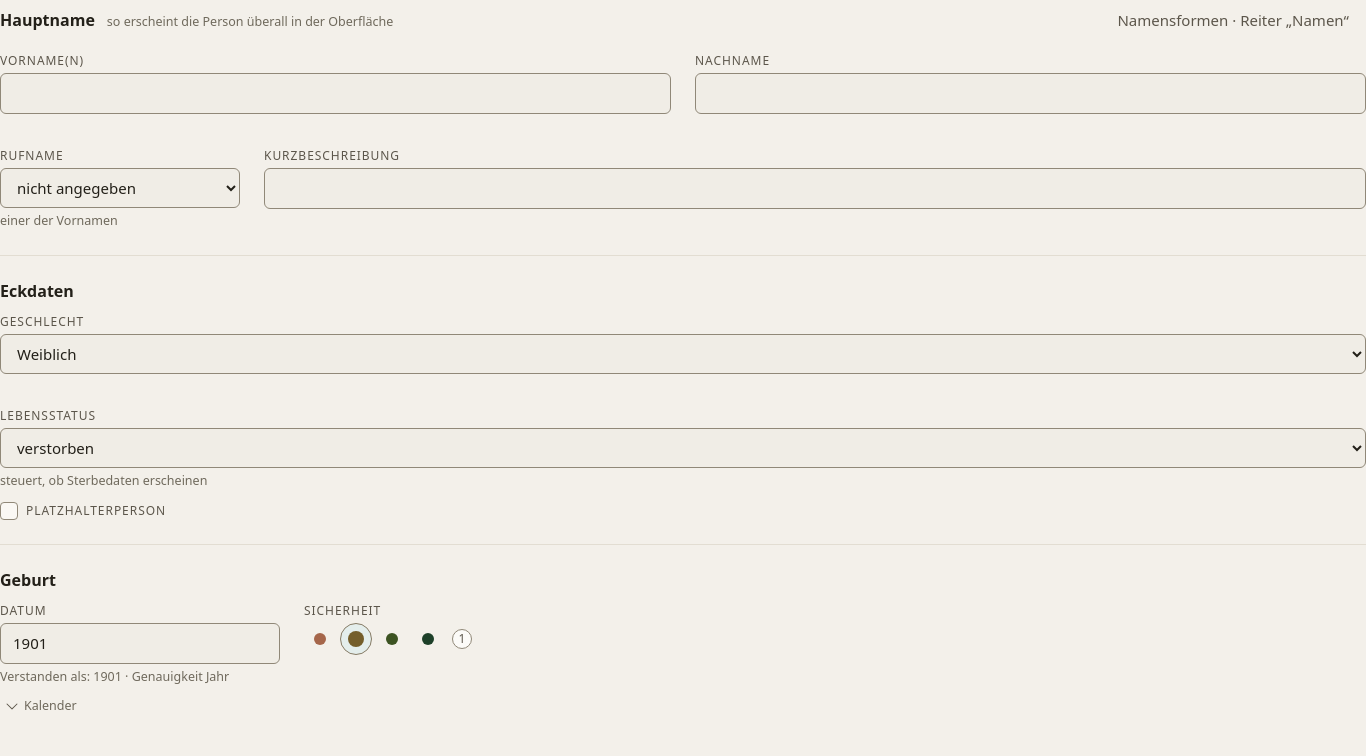
Test: ReiterPerson — Beleg-Zeile und Beleg-Wähler (AP-1.30 PR 9d) › der Belegzähler öffnet dieselbe Schublade für die eine Angabe, mit Wähler im Kopf (E11)
The image size is (1366, 756).
Click the button with class "wz-beleg-abzeichen".
click(462, 639)  # box [452,629,472,649]
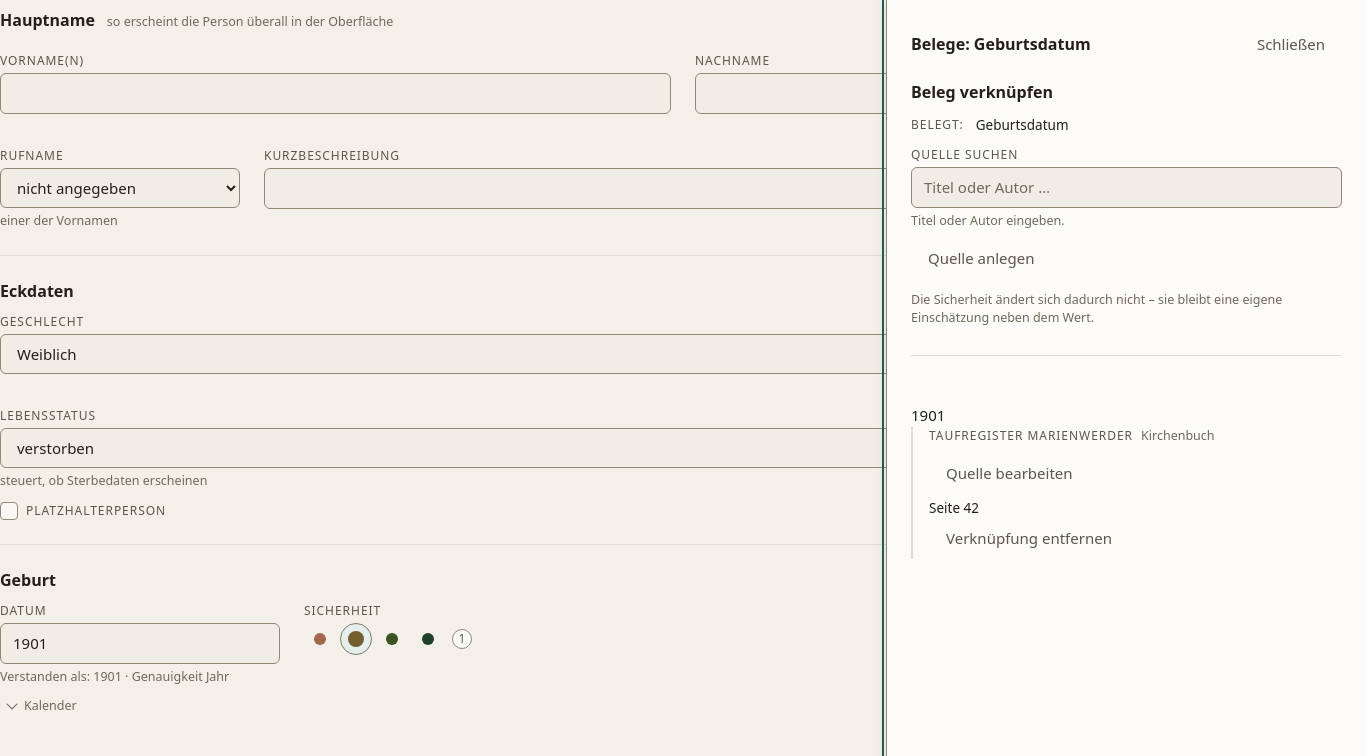
Now the search field with id "wz-beleg-waehler-suche" is shown, box [911,167,1342,208]
